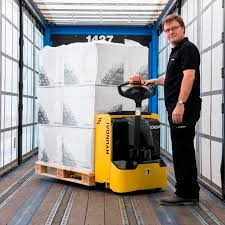Pallet Jack: (35, 77, 169, 196)
